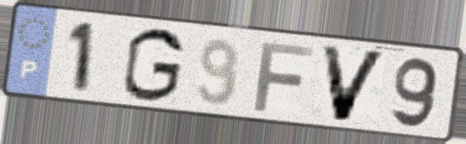1: (64, 19, 98, 95)
9: (389, 55, 441, 130), (195, 36, 245, 108)
F: (250, 38, 318, 114)
G: (120, 25, 188, 105)
V: (318, 42, 391, 125)
